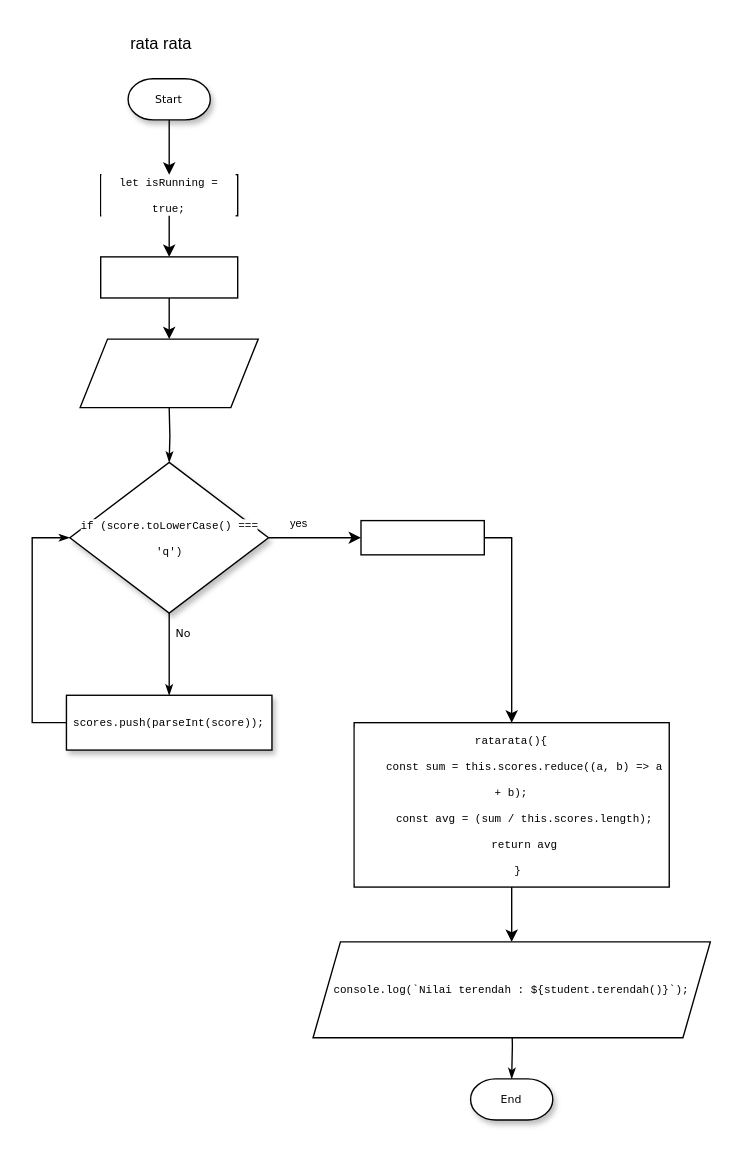
This 734x1154 diagram has some shape labels left out. Each missing label, with the centre of its shape:
isRunning = false;: point (422, 537)
Masukkan nilai ujian akhir semester mapel ips :: point (168, 373)
while(isRunning): point (168, 277)
